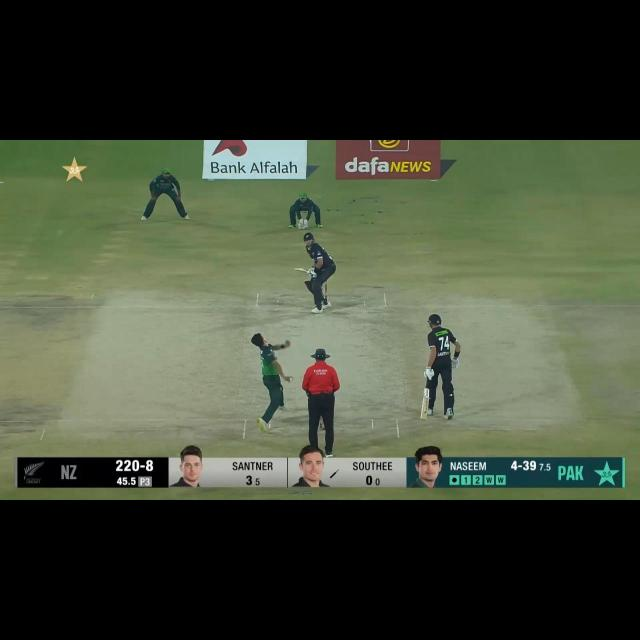bat: (420, 388, 430, 422), (292, 266, 310, 274)
toe: (418, 411, 429, 424), (292, 267, 301, 272)
